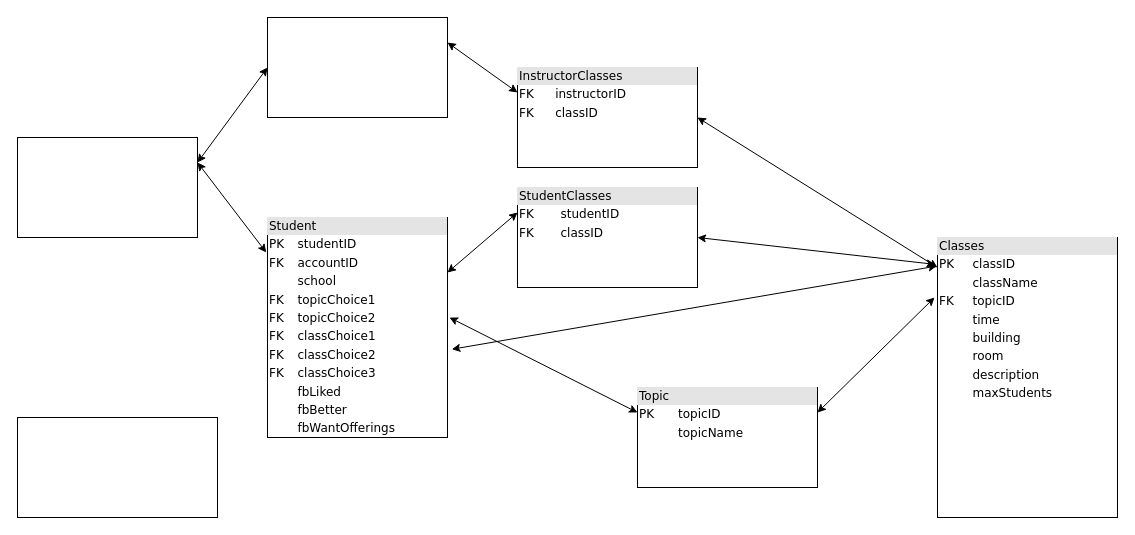
The diagram is 1135 pixels wide and 535 high, and some of its shapes have lost their labels. The shapes that lost their labels are listed below. From the top down, each one's box as (x1, y1, x2, y2) in pixels, then its label:
(266, 16, 448, 118): Instructor PK instructorID FK accountID ? speakerDescription
(16, 136, 198, 238): Account PK accountID firstName lastName email
(16, 416, 218, 518): ?MadLibs? (Unclear if needed)
